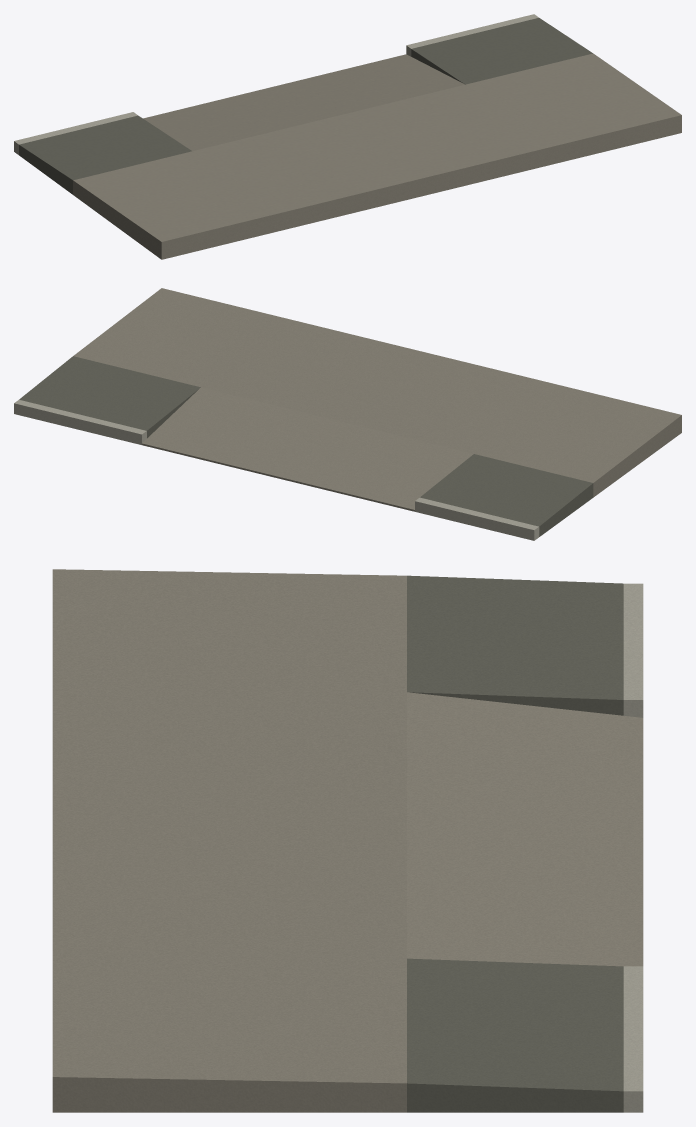
The model's file is elmina-sidewalk-plain.glb.
3 views of the same model, one above another, from view 1: azimuth 30°, elevation 25°; view 2: azimuth 150°, elevation 25°; view 3: azimuth 270°, elevation 25° (orthographic). The views are drawn at different scales.
Visible parts, largest first — view 1: plain__VehicleCrossingWalk, plain__ClearWalkWest, plain__VehicleApron, plain__PedestrianApproach, plain__ServiceWest, plain__ClearWalkEast, plain__PedestrianService, plain__ServiceEast, plain__ClearWalkLink, plain__ServiceLink, plain__Curb_ServiceWest, plain__Curb_PedestrianService; view 2: plain__VehicleCrossingWalk, plain__VehicleApron, plain__ClearWalkWest, plain__ServiceWest, plain__PedestrianApproach, plain__PedestrianService, plain__ClearWalkEast, plain__ServiceEast, plain__Curb_ServiceWest, plain__Curb_PedestrianService, plain__ClearWalkLink, plain__ServiceLink (+1 smaller); view 3: plain__VehicleCrossingWalk, plain__VehicleApron, plain__ClearWalkWest, plain__ServiceWest, plain__PedestrianApproach, plain__ClearWalkEast, plain__PedestrianService, plain__ServiceEast, plain__ClearWalkLink, plain__Curb_ServiceWest, plain__ServiceLink, plain__Curb_PedestrianService (+1 smaller).
Part boxes in pixels (bbox=[...]): plain__VehicleCrossingWalk: bbox=[193, 84, 553, 230]; plain__ClearWalkWest: bbox=[73, 151, 280, 259]; plain__VehicleApron: bbox=[143, 54, 464, 150]; plain__PedestrianApproach: bbox=[478, 63, 642, 160]; plain__ServiceWest: bbox=[19, 115, 191, 194]; plain__ClearWalkEast: bbox=[554, 53, 681, 142]; plain__PedestrianService: bbox=[423, 27, 553, 81]; plain__ServiceEast: bbox=[500, 18, 592, 62]; plain__ClearWalkLink: bbox=[466, 81, 565, 163]; plain__ServiceLink: bbox=[411, 46, 476, 84]; plain__Curb_ServiceWest: bbox=[14, 112, 137, 154]; plain__Curb_PedestrianService: bbox=[418, 23, 499, 45]; plain__VehicleCrossingWalk: bbox=[201, 319, 562, 453]; plain__VehicleApron: bbox=[142, 387, 473, 511]; plain__ClearWalkWest: bbox=[474, 386, 681, 497]; plain__ServiceWest: bbox=[420, 454, 593, 536]; plain__PedestrianApproach: bbox=[113, 297, 277, 384]; plain__PedestrianService: bbox=[58, 365, 188, 427]; plain__ClearWalkEast: bbox=[73, 288, 200, 365]; plain__ServiceEast: bbox=[19, 356, 111, 408]; plain__Curb_ServiceWest: bbox=[415, 497, 539, 540]; plain__Curb_PedestrianService: bbox=[53, 409, 134, 442]; plain__ClearWalkLink: bbox=[189, 316, 289, 387]; plain__ServiceLink: bbox=[135, 384, 200, 438]; plain__VehicleCrossingWalk: bbox=[52, 685, 406, 958]; plain__VehicleApron: bbox=[407, 692, 643, 966]; plain__ClearWalkWest: bbox=[52, 569, 406, 692]; plain__ServiceWest: bbox=[407, 575, 623, 715]; plain__PedestrianApproach: bbox=[52, 964, 406, 1044]; plain__ClearWalkEast: bbox=[52, 1038, 406, 1112]; plain__PedestrianService: bbox=[407, 970, 623, 1052]; plain__ServiceEast: bbox=[407, 1045, 623, 1112]; plain__ClearWalkLink: bbox=[52, 952, 406, 970]; plain__Curb_ServiceWest: bbox=[623, 583, 643, 717]; plain__ServiceLink: bbox=[407, 958, 623, 977]; plain__Curb_PedestrianService: bbox=[623, 978, 643, 1052].
Size of the model in its own units: 6.1 by 0.2 by 3.
3 materials, 3 textured.
